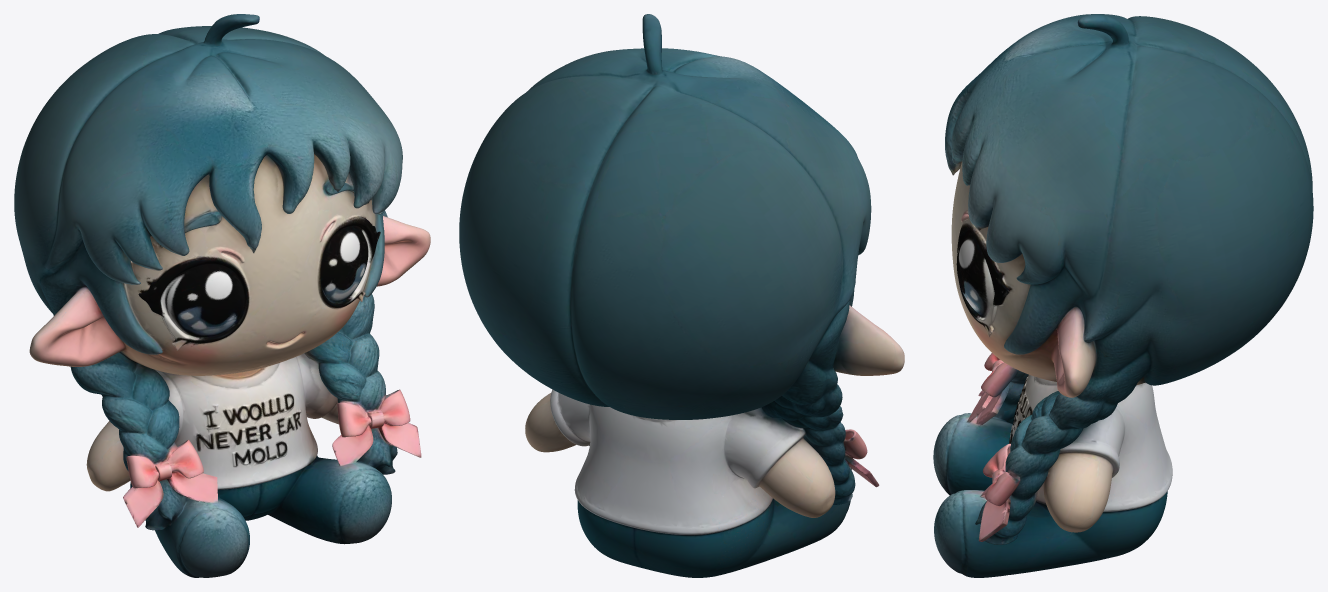
File: camper.glb
3 views of the same model, side by side, from view 1: azimuth 30°, elevation 25°; view 2: azimuth 150°, elevation 25°; view 3: azimuth 270°, elevation 25° (orthographic). The views are drawn at different scales.
Visible parts, largest first — view 1: node_0; view 2: node_0; view 3: node_0.
Part boxes in pixels (box(x1,y1,x2,y2)): node_0: box(14, 14, 430, 577); node_0: box(459, 14, 904, 577); node_0: box(933, 14, 1313, 577).
Bounding box in the file's own units: 0.848 × 0.9978 × 0.6538.
Materials: 1 (1 with a texture image).
